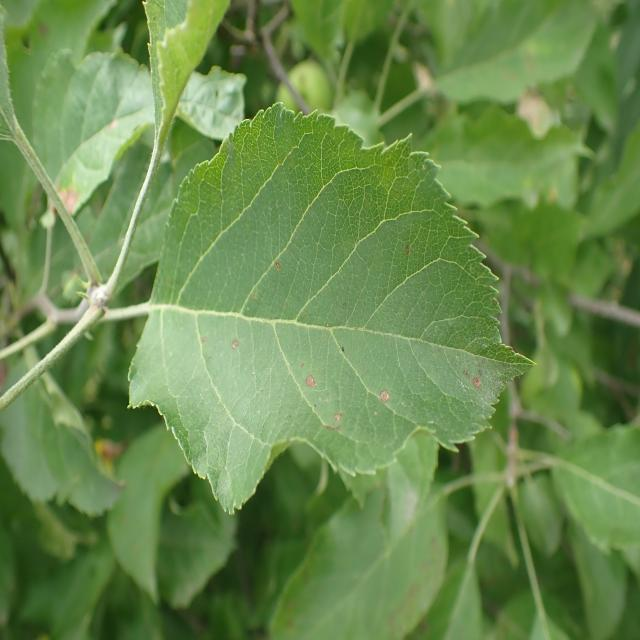scab: (162, 189, 526, 456)
